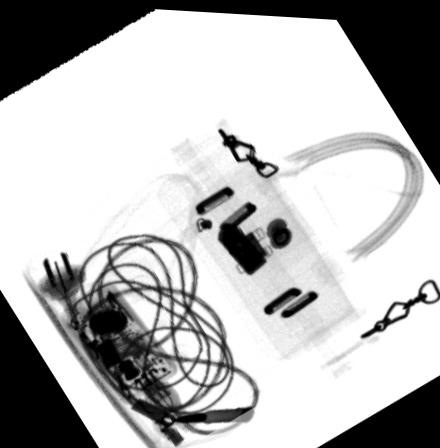Bullet: (170, 402, 256, 422)
